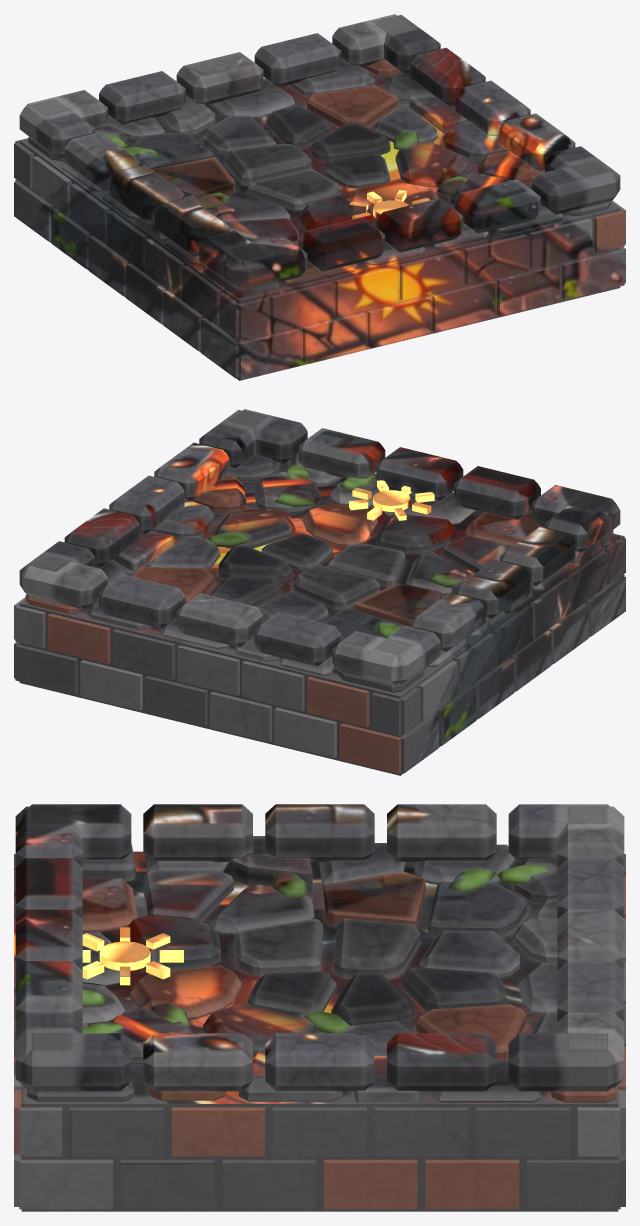
Rendered from furnace_plate.glb.
3 views of the same model, one above another, from view 1: azimuth 30°, elevation 25°; view 2: azimuth 150°, elevation 25°; view 3: azimuth 270°, elevation 25° (orthographic). The views are drawn at different scales.
Parts seen in each view (by area): view 1: furnace_plate; view 2: furnace_plate; view 3: furnace_plate.
Part boxes in pixels (x1,y1,x2,y2): furnace_plate: [14, 14, 625, 380]; furnace_plate: [14, 409, 625, 775]; furnace_plate: [14, 804, 625, 1211].
Size of the model in its own units: 2.01 by 0.57 by 2.01.
1 material, 1 textured.
